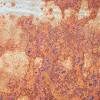rust: (16, 14, 99, 100), (5, 75, 35, 98), (41, 1, 88, 14), (2, 37, 22, 57)
